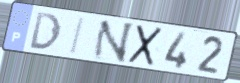2: (196, 35, 225, 76)
4: (162, 30, 190, 72)
D: (28, 11, 62, 52)
I: (68, 16, 87, 57)
N: (90, 19, 137, 64)
X: (126, 24, 165, 68)
